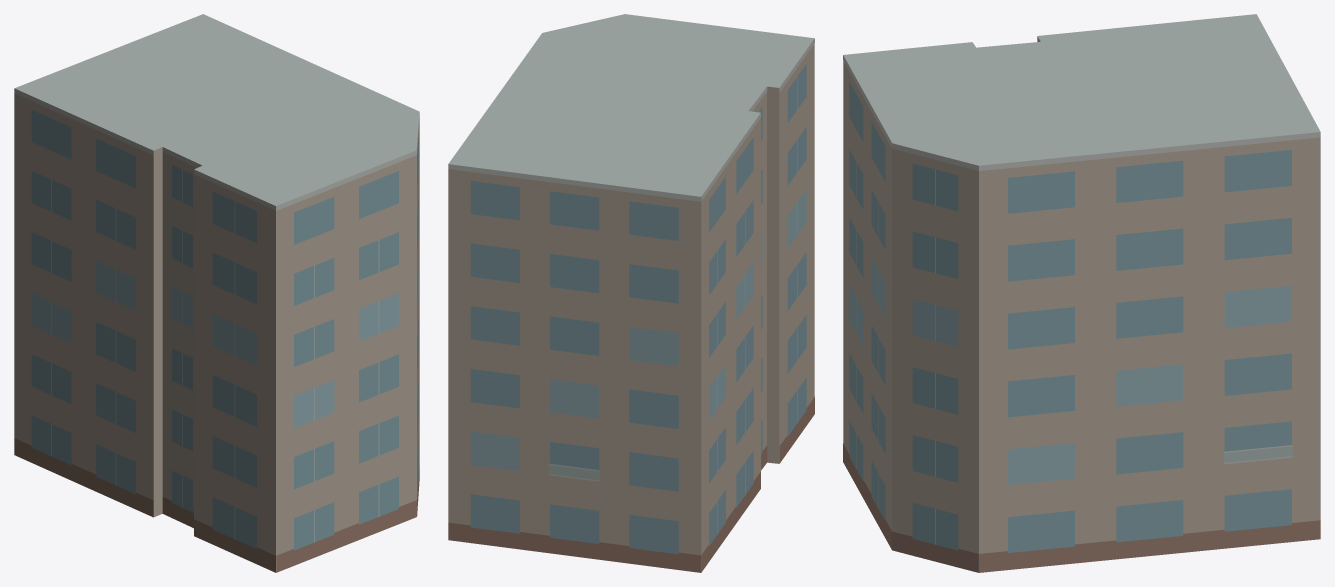
File: survey-upis-32917528.glb
The picture shows the model from 3 angles, left to right: view 1: azimuth 30°, elevation 25°; view 2: azimuth 150°, elevation 25°; view 3: azimuth 270°, elevation 25°; orthographic projection. The views are drawn at different scales.
Parts seen in each view (by area): view 1: survey-upis-32917528.tmp; view 2: survey-upis-32917528.tmp; view 3: survey-upis-32917528.tmp.
Part boxes in pixels (x1=…): survey-upis-32917528.tmp: x1=14, y1=14, x2=419, y2=572; survey-upis-32917528.tmp: x1=448, y1=14, x2=814, y2=572; survey-upis-32917528.tmp: x1=843, y1=14, x2=1320, y2=572.
Size of the model in its own units: 14.72 by 18.4 by 19.57.
